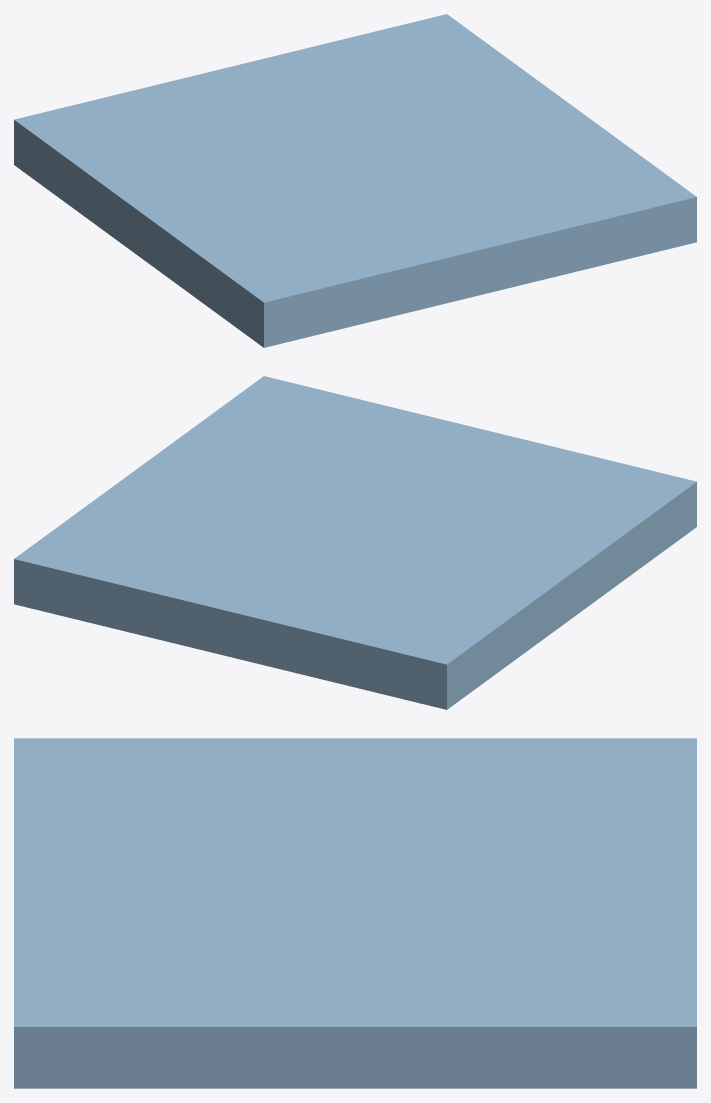
Rendered from EspacioRedSocialTechoInteriorBajoNI.gltf.
The picture shows the model from 3 angles, top to bottom: view 1: azimuth 30°, elevation 25°; view 2: azimuth 150°, elevation 25°; view 3: azimuth 270°, elevation 25°; orthographic projection. The views are drawn at different scales.
Visible parts, largest first — view 1: Objeto Poligonal; view 2: Objeto Poligonal; view 3: Objeto Poligonal.
Boxes of the visible parts, bbox=[...] form: Objeto Poligonal: bbox=[14, 14, 696, 347]; Objeto Poligonal: bbox=[14, 376, 696, 709]; Objeto Poligonal: bbox=[14, 738, 696, 1088].
Bounding box in the file's own units: 2 × 0.2 × 2.
1 material, 1 textured.
